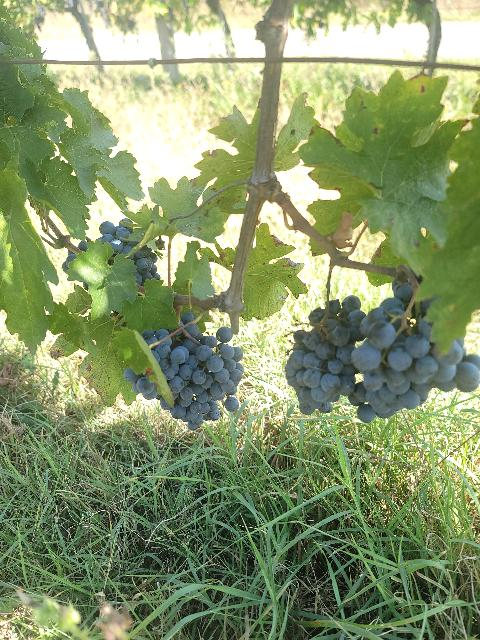grapes: (345, 280, 479, 422), (124, 312, 244, 430), (285, 295, 366, 415)
